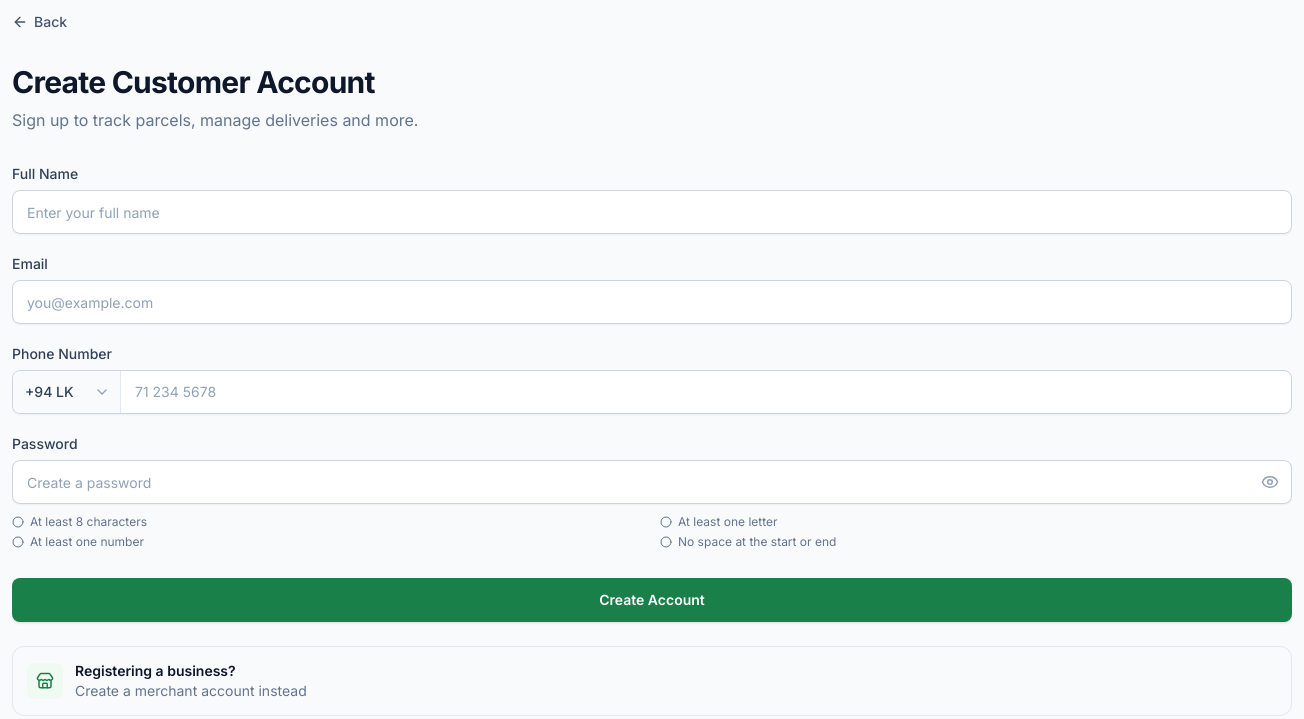
Test: CustomerSignupPage › puts the server error on the email field when it is already registered
The image size is (1304, 719).
Type "Jane Doe" into the field labelled "Full Name" at (652, 212), box left=12, top=190, right=1292, bottom=234
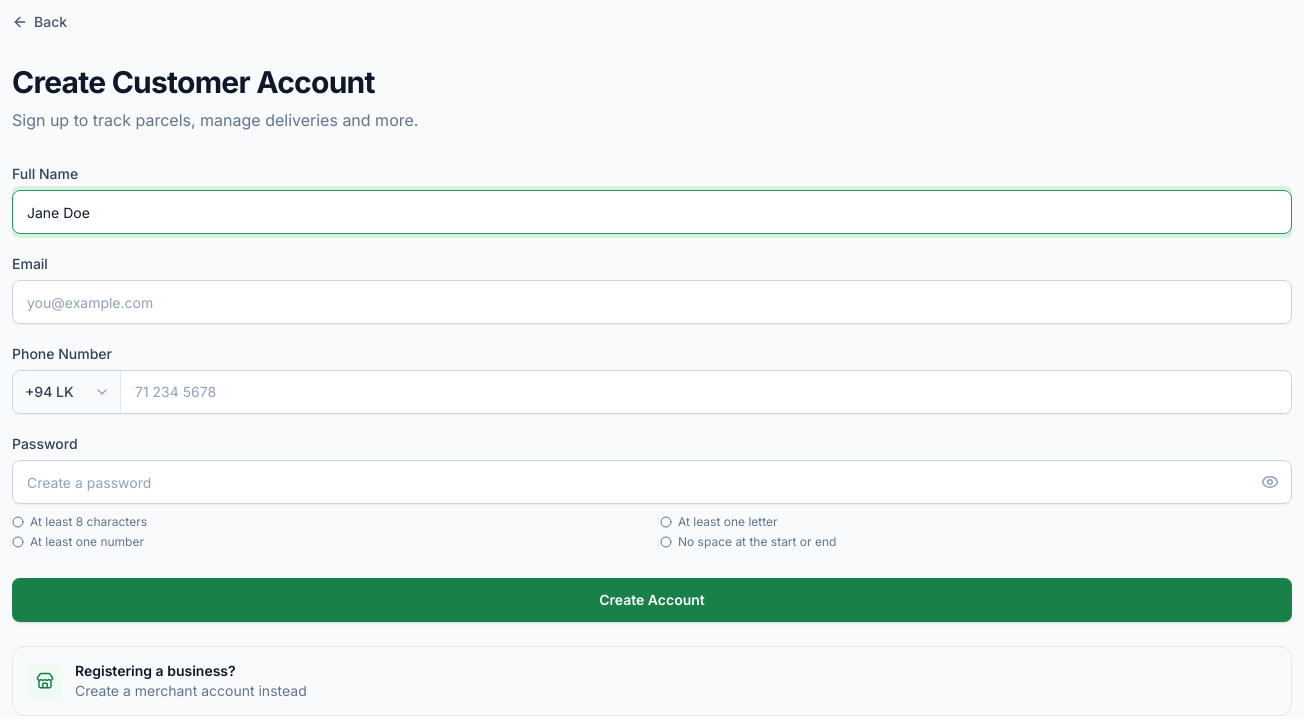
Type "taken@example.com" into the field labelled "Email" at (652, 302), box left=12, top=280, right=1292, bottom=324
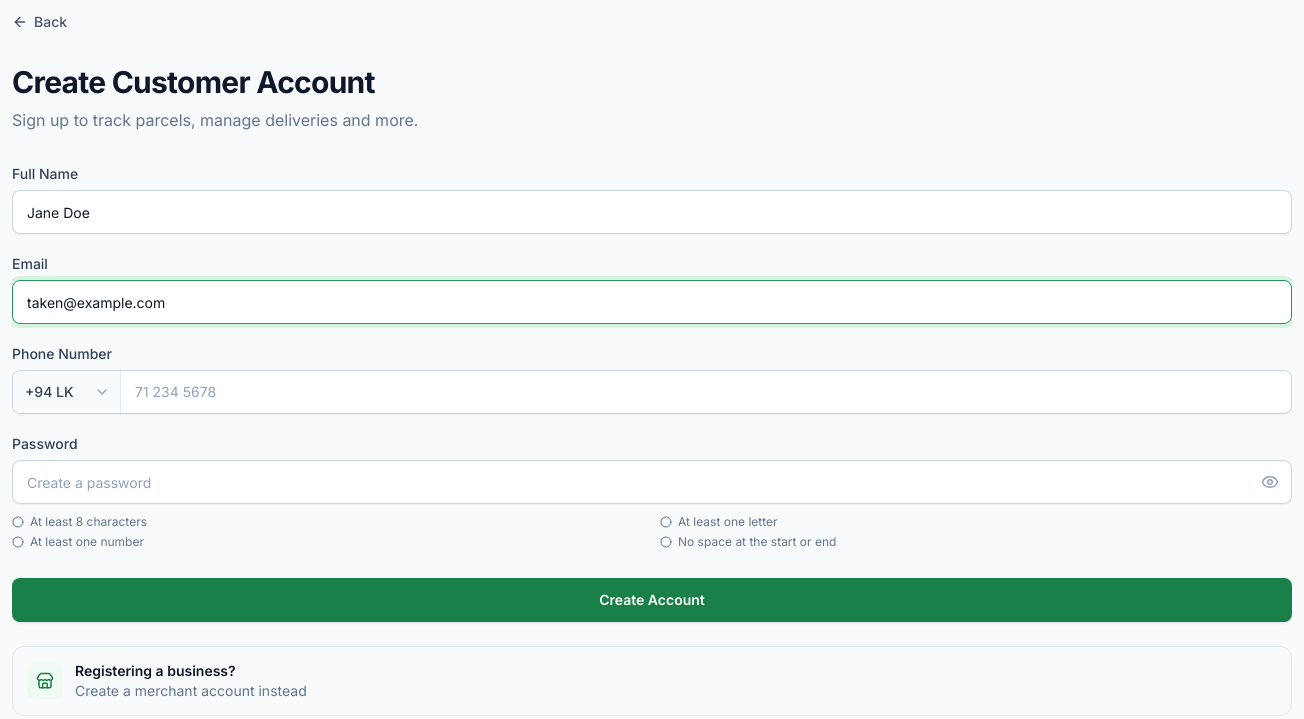
Type "071 234 5678" into the field labelled "Phone Number" at (706, 392), box left=121, top=371, right=1291, bottom=413
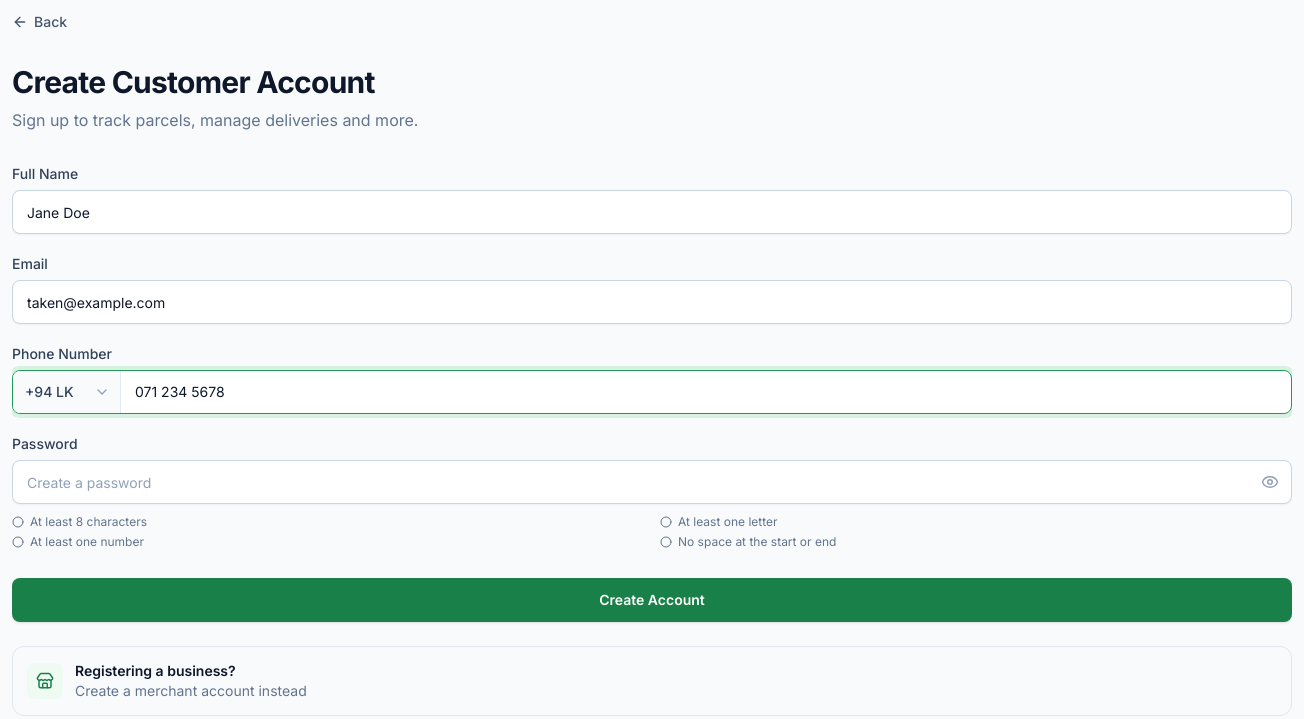
Type "parcel2026" into the password field labelled "Password" at (652, 482), box left=12, top=460, right=1292, bottom=504
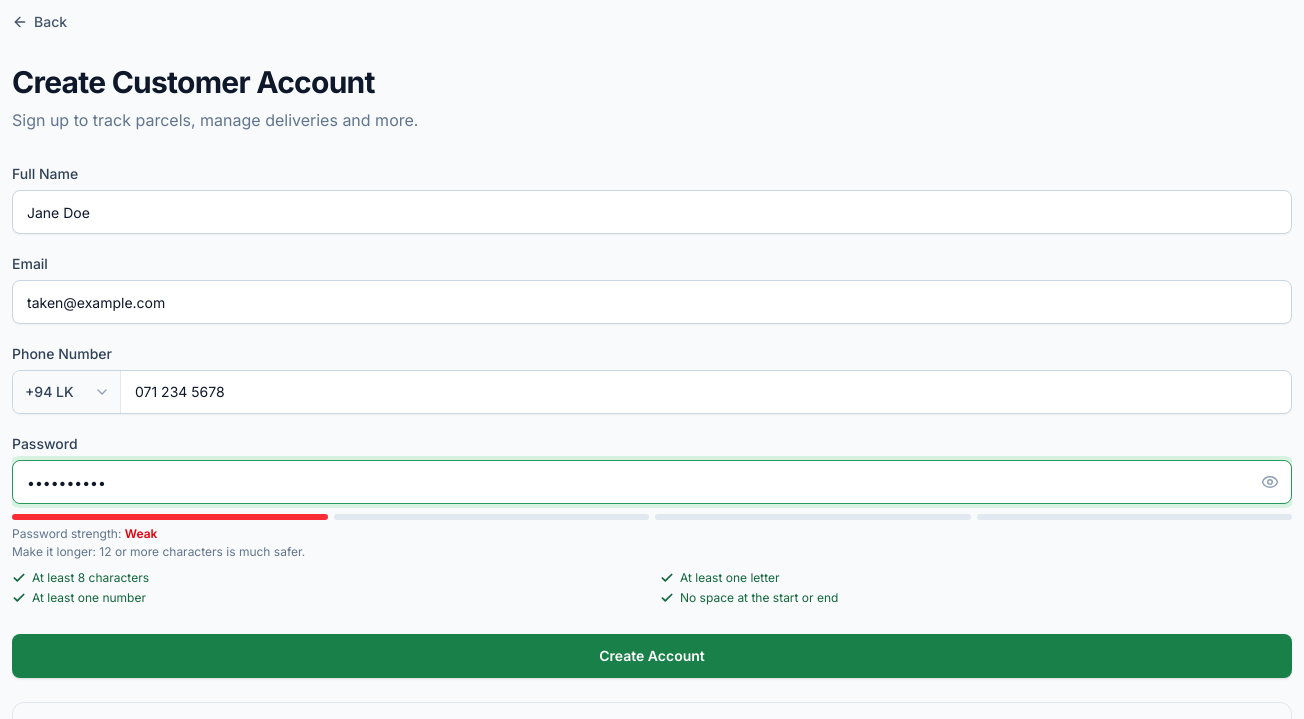
Click the button "Create Account" at (652, 656), box left=12, top=634, right=1292, bottom=678
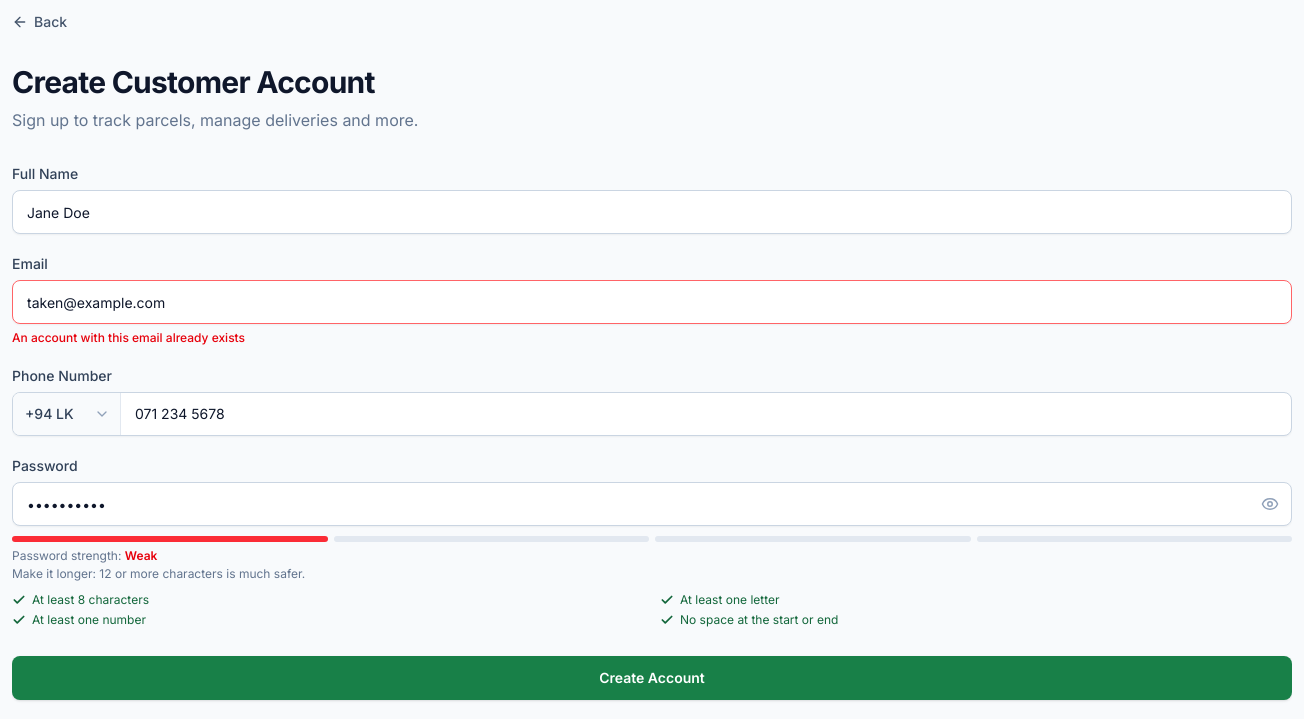
Expected: the text "An account with this email already exists" is shown, left=12, top=330, right=245, bottom=345
